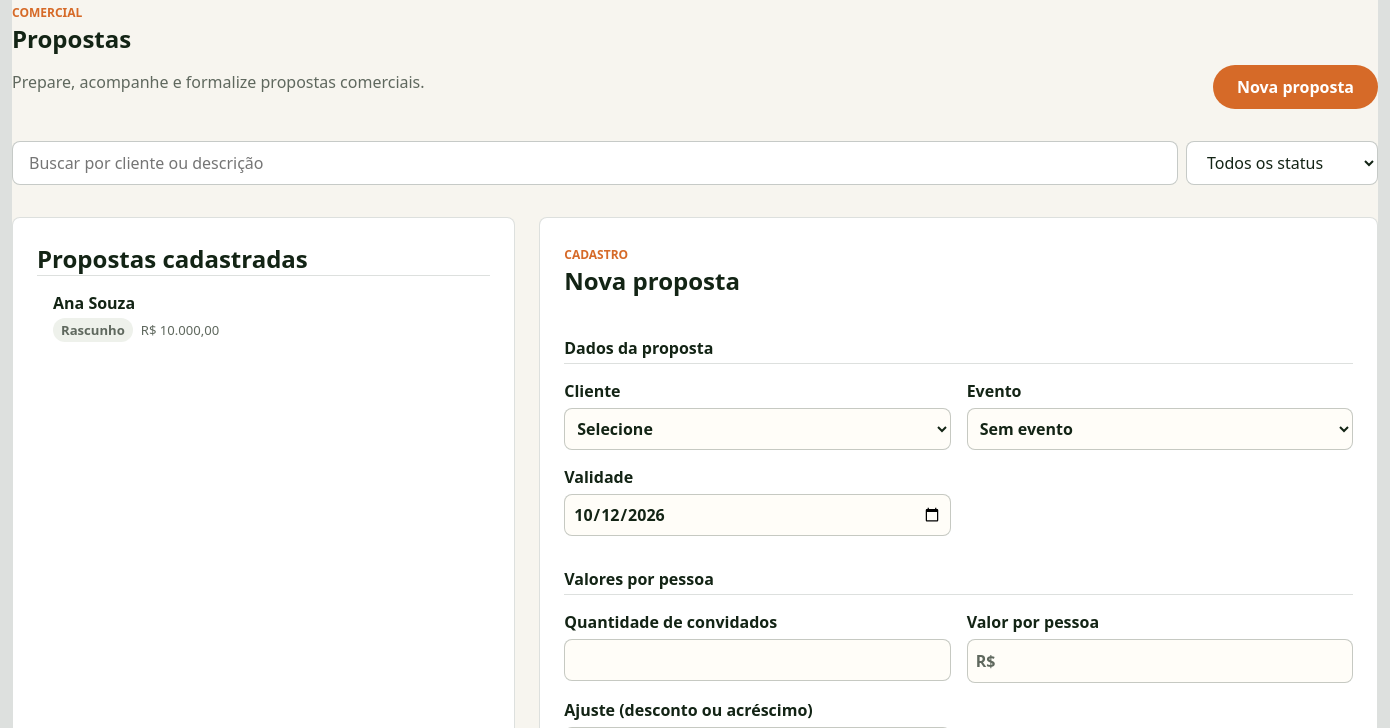
Scenario: AdminProposalsPage › hydrates the commercial snapshots without replacing them with current catalog data
This screenshot has width=1390, height=728.
What coordinates should you click on to do the following:
click the button "Ana Souza Rascunho R$ 10.000,00"
I would click on:
 (94, 303)
Its box is [37,275,490,358].
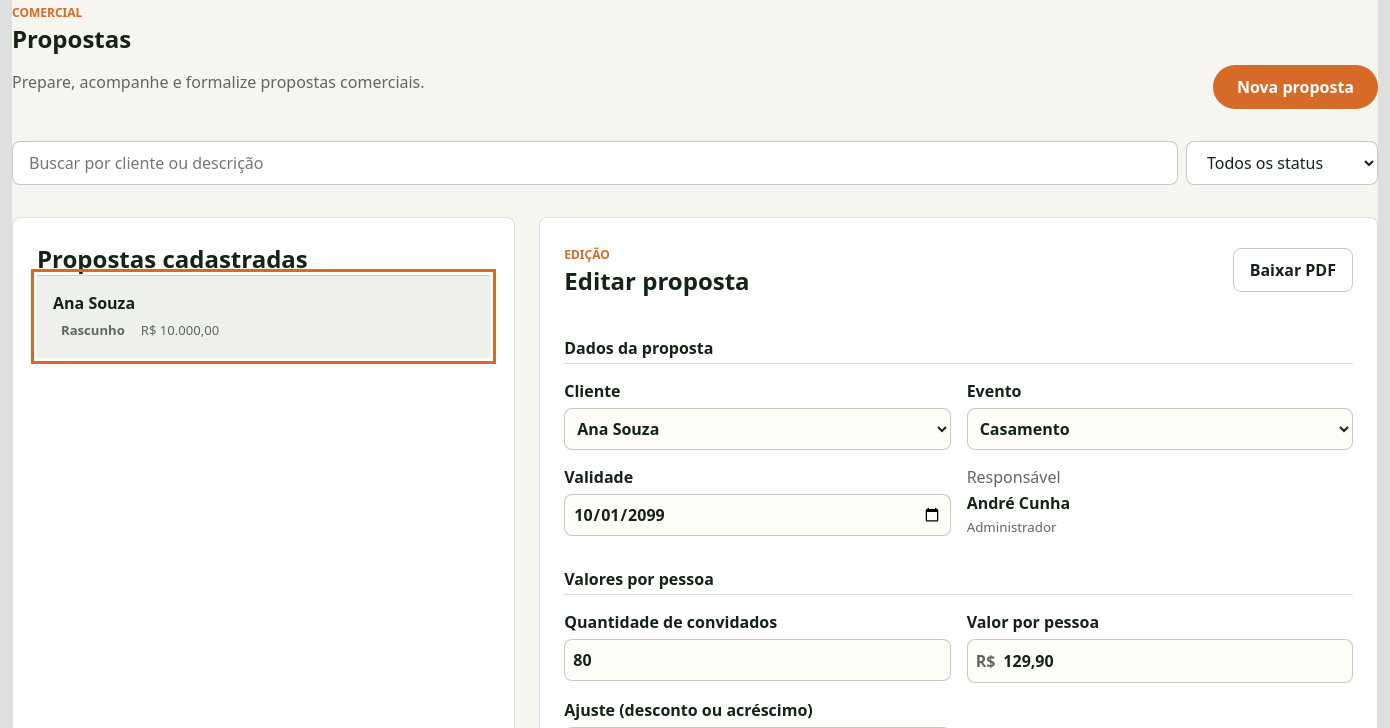
Check: the number field labelled "Quantidade de convidados" holds "80", box [564,639,951,681]
Check: the field labelled "Valor por pessoa" holds "129,90", box [995,640,1352,682]
Check: the text "André Cunha" is shown, box [967,492,1070,514]
